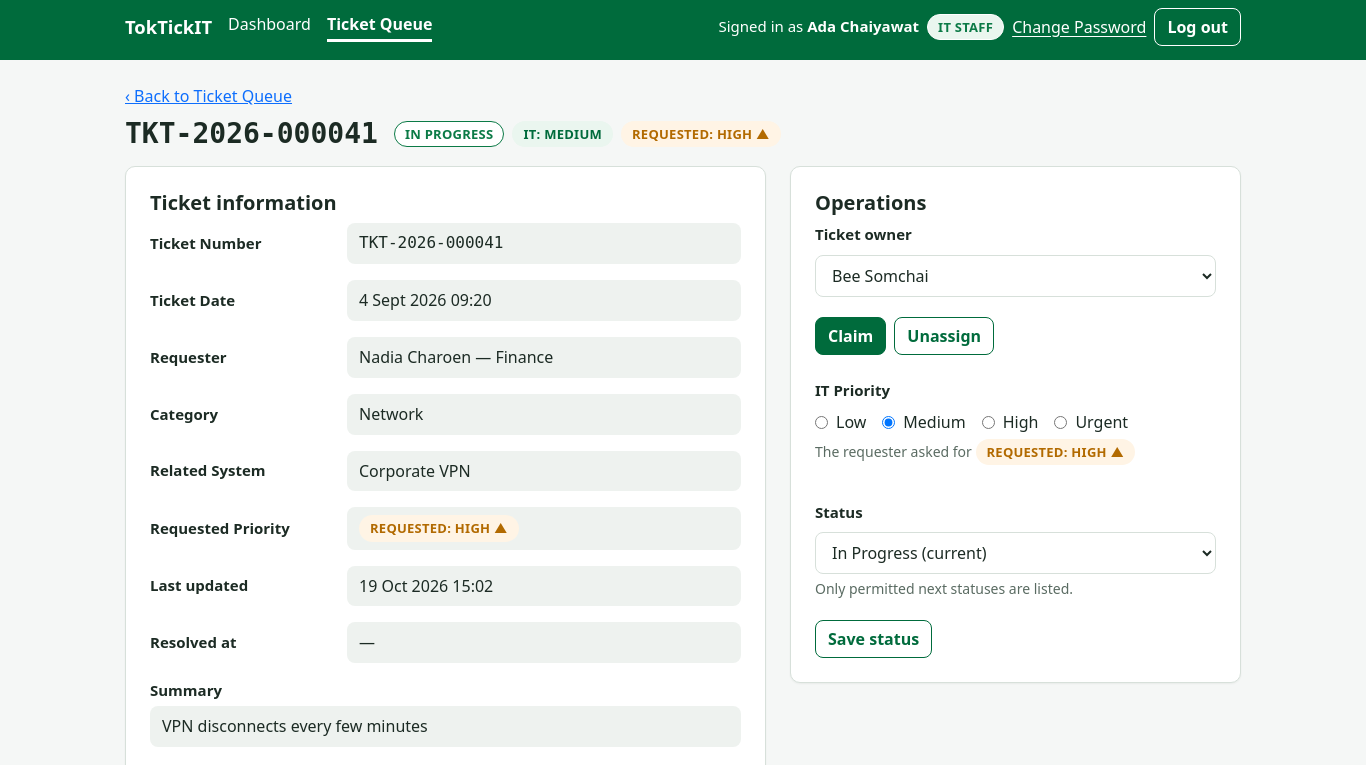
Test: UI-25 a successful change refreshes the summary without a reload (AC-40) › sends expectedVersion and redraws badge, Resolved at, options, and blockers from the response
Expected: the text "—" is shown, [347,622,741,663]
Select "Resolved" in the dropdown labelled "Status" at (1016, 553), box [815,532,1216,574]
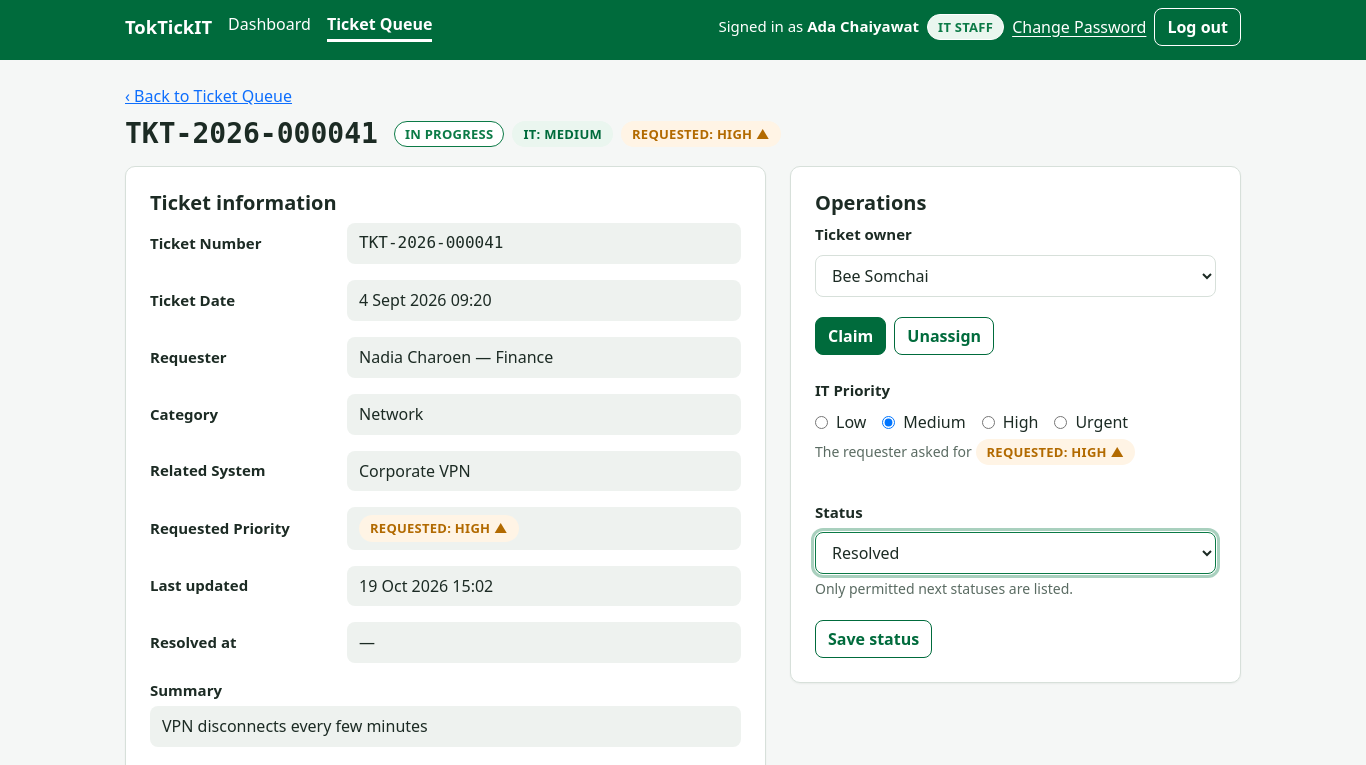
Click the button "Save status".
click(874, 639)  # box [815,620,932,658]
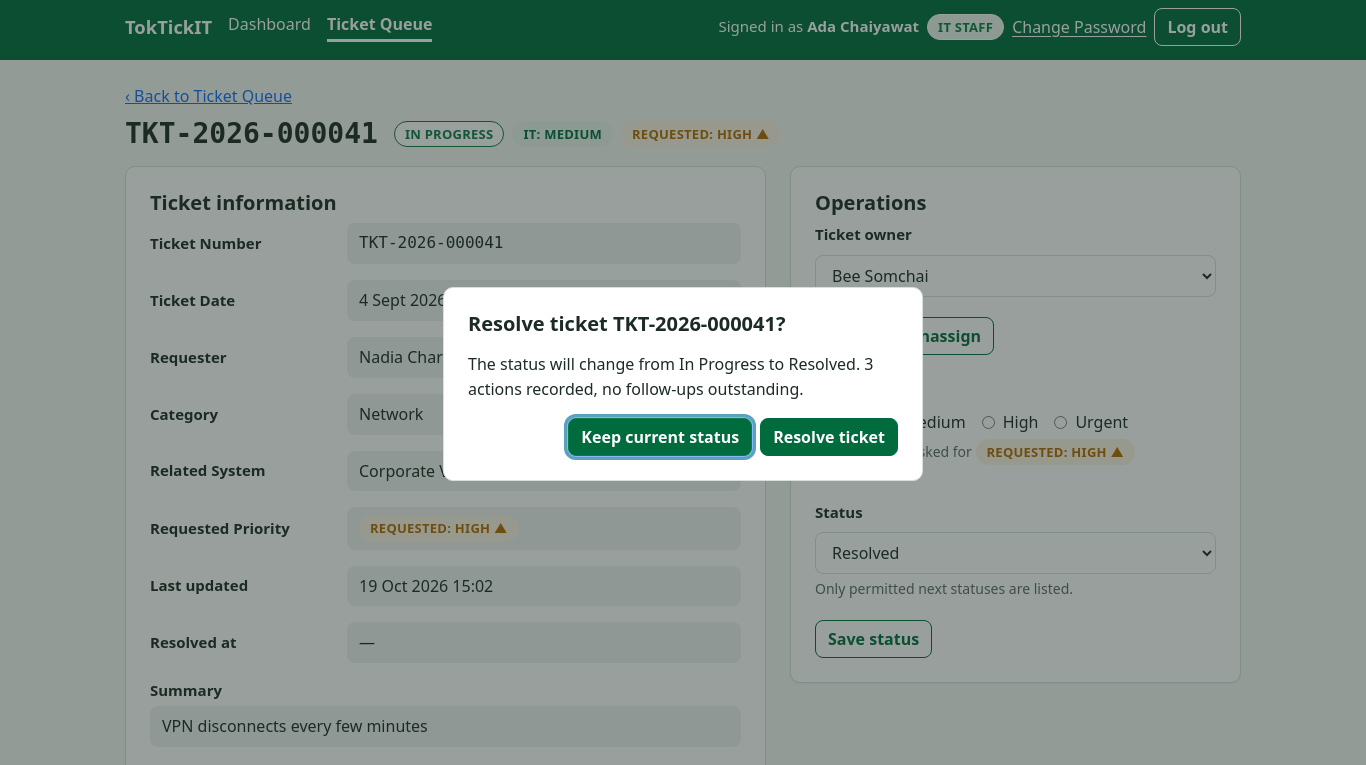
Click the button "Resolve ticket".
click(829, 437)  # box [760,418,898,456]
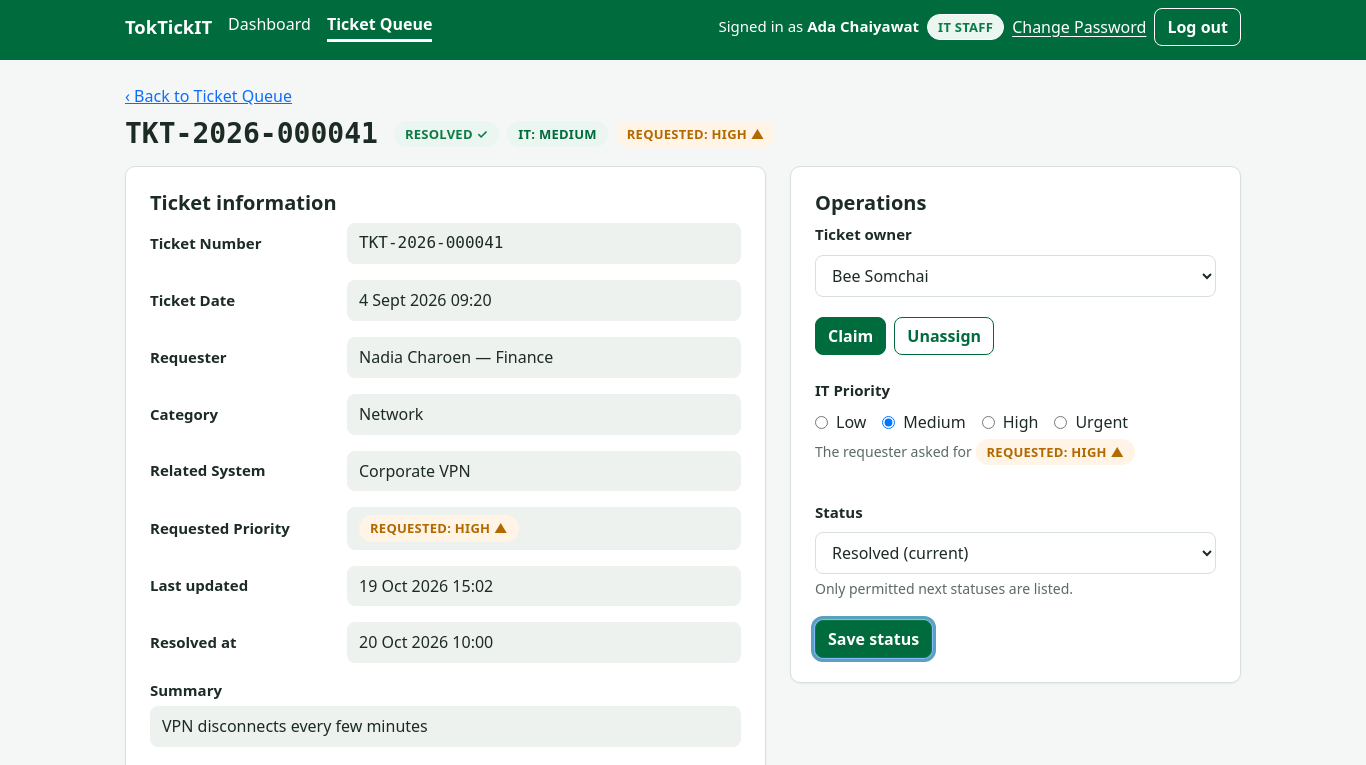
Now the text "Resolved" is shown, box [405,124,473,142]
